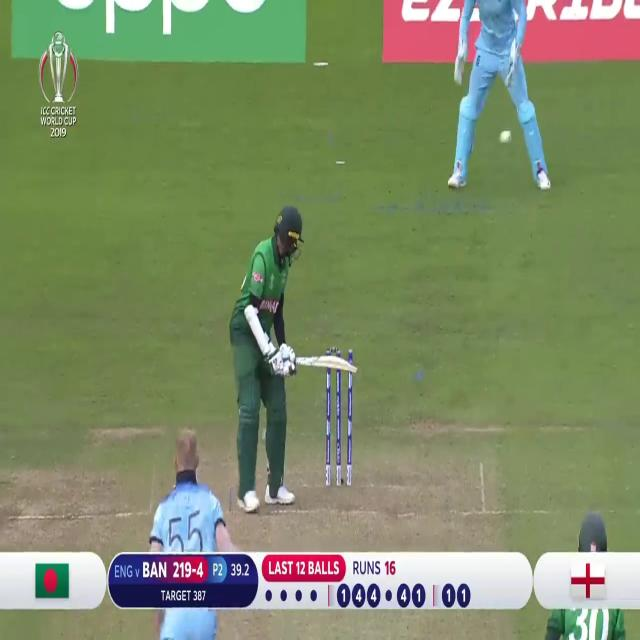ball: (496, 123, 514, 149)
